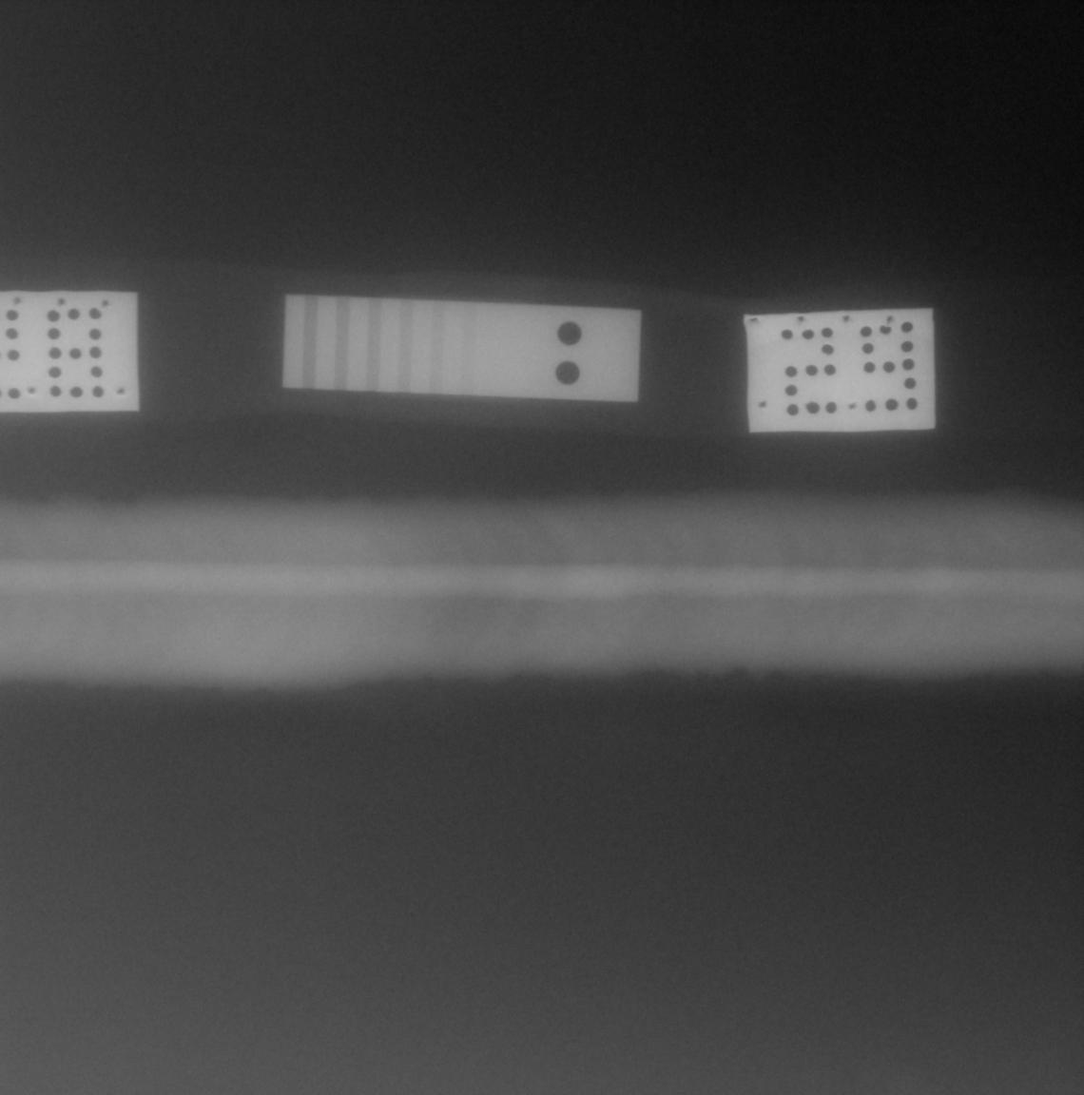Reference Standard 2: (282, 294, 641, 402)
